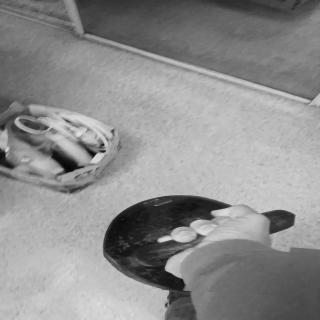kettlebell: (100, 194, 295, 295)
